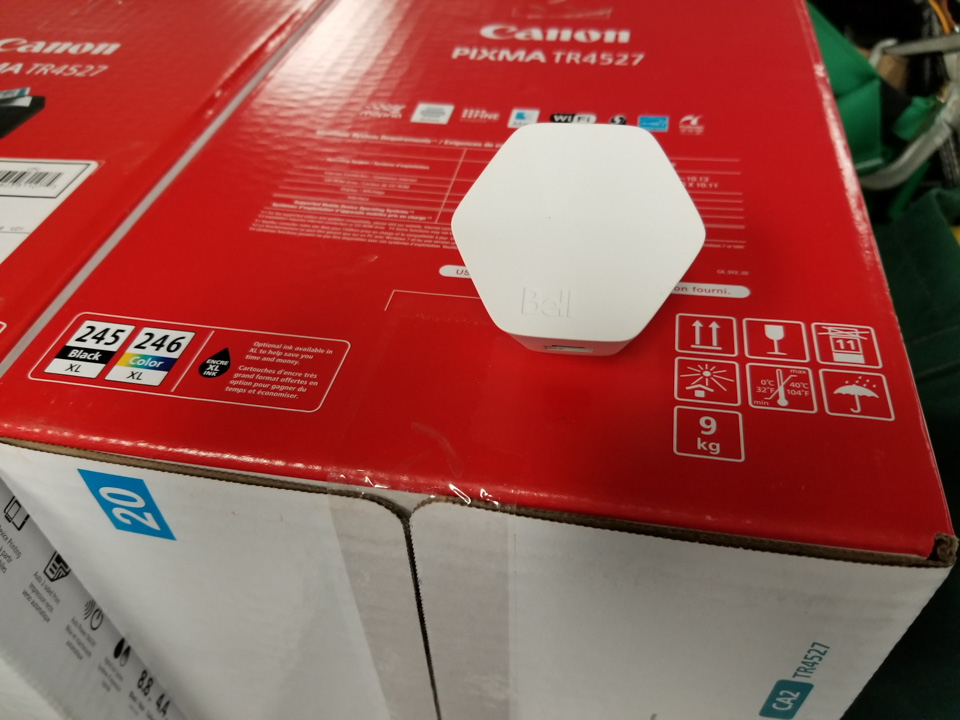pod: (446, 121, 708, 365)
